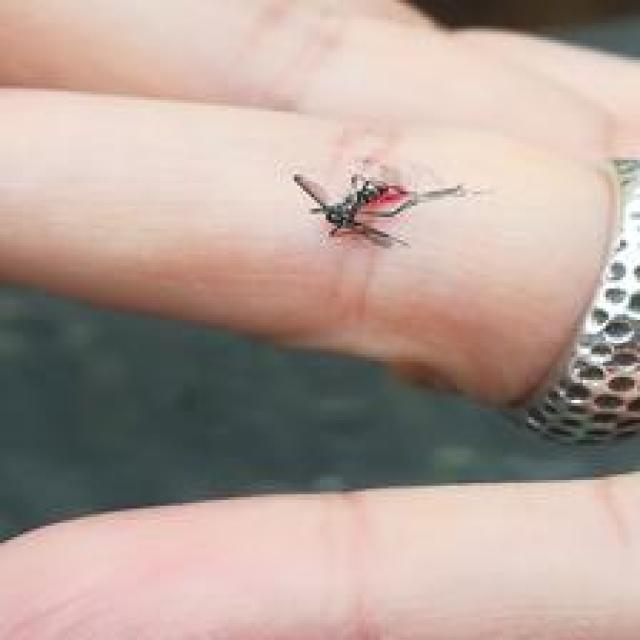Aedes albopictus: (293, 164, 478, 250)
